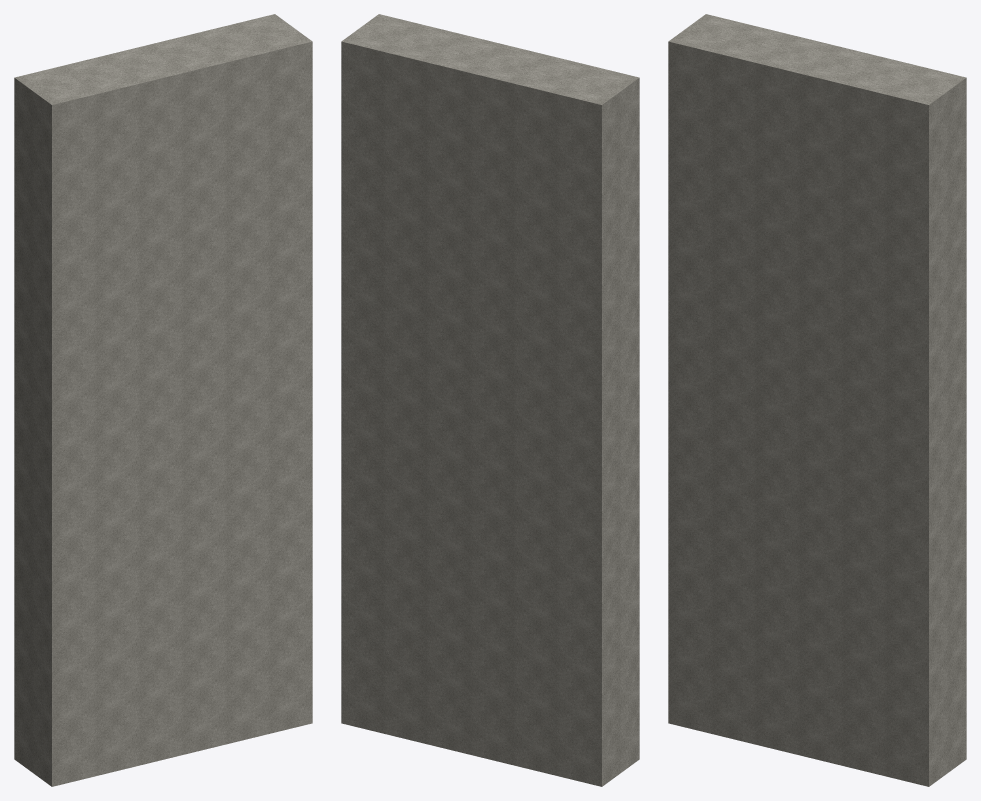
The picture shows the model from 3 angles, left to right: view 1: azimuth 30°, elevation 25°; view 2: azimuth 150°, elevation 25°; view 3: azimuth 330°, elevation 25°; orthographic projection.
Visible parts, largest first — view 1: S13_节理化花岗岩_30m; view 2: S13_节理化花岗岩_30m; view 3: S13_节理化花岗岩_30m.
Part boxes in pixels (x1=…): S13_节理化花岗岩_30m: x1=14, y1=14, x2=312, y2=786; S13_节理化花岗岩_30m: x1=341, y1=14, x2=639, y2=786; S13_节理化花岗岩_30m: x1=668, y1=14, x2=966, y2=786.
Size of the model in its own units: 12 by 30 by 3.
Materials: 2 (2 with a texture image).
